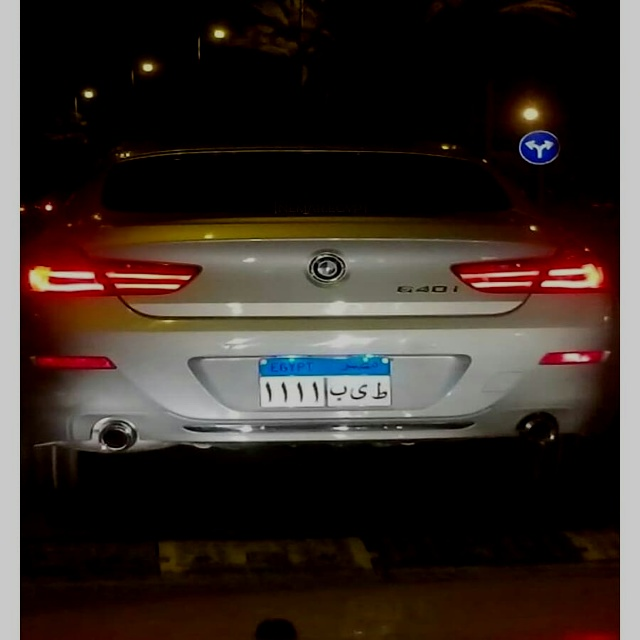License Plate: (255, 353, 396, 410)
